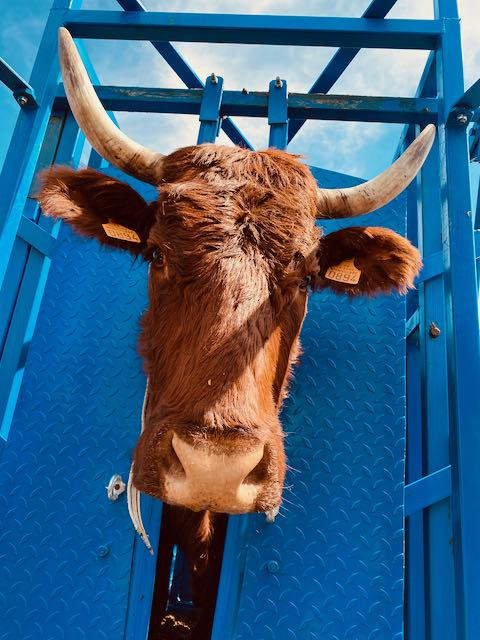muzzles: (127, 420, 301, 528)
